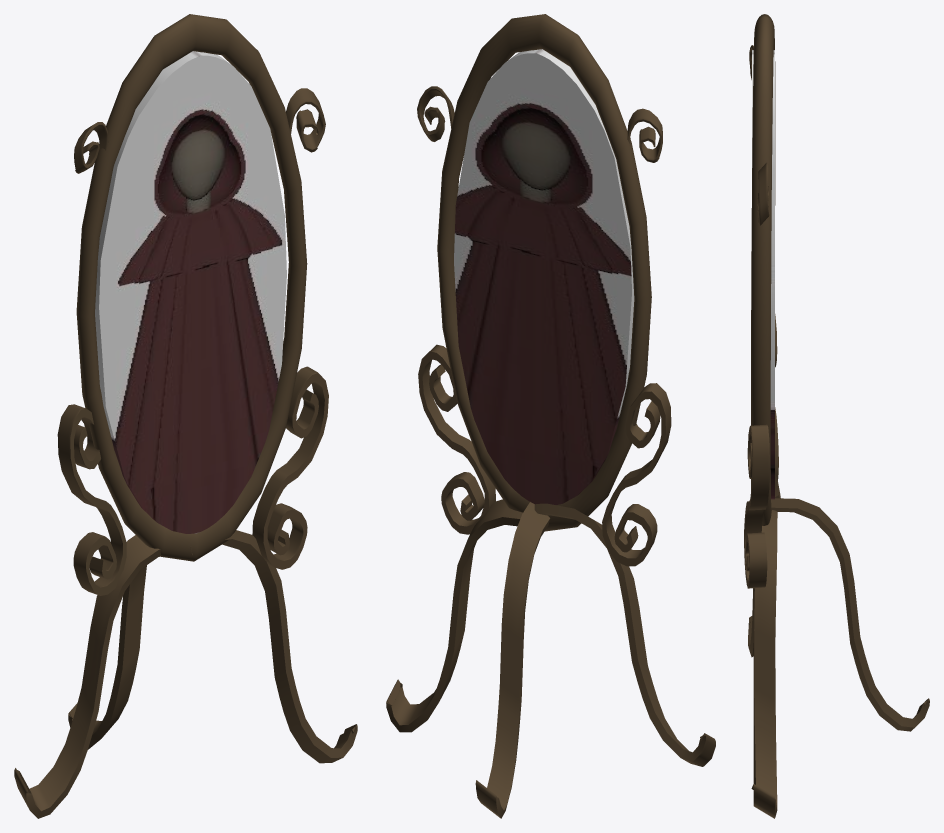
The model's file is alchemist mirror reflection.fbx.
3 views of the same model, side by side, from view 1: azimuth 30°, elevation 25°; view 2: azimuth 150°, elevation 25°; view 3: azimuth 270°, elevation 25° (orthographic). The views are drawn at different scales.
Parts seen in each view (by area): view 1: polySurface6, polySurface10, polySurface2, polySurface4, polySurface5, polySurface9, polySurface1, polySurface3, polySurface8; view 2: polySurface6, polySurface10, polySurface1, polySurface4, polySurface5, polySurface9, polySurface2, polySurface8, polySurface3; view 3: polySurface10, polySurface9, polySurface1, polySurface4, polySurface6, polySurface3, polySurface2.
Part boxes in pixels (x1,y1,x2,y2): polySurface6: (95, 51, 286, 533); polySurface10: (76, 14, 307, 561); polySurface2: (14, 535, 162, 818); polySurface4: (252, 366, 328, 569); polySurface5: (57, 404, 126, 595); polySurface9: (222, 530, 357, 763); polySurface1: (68, 546, 192, 749); polySurface3: (286, 88, 325, 152); polySurface8: (74, 122, 108, 173); polySurface6: (454, 49, 634, 504); polySurface10: (437, 14, 651, 531); polySurface1: (475, 502, 550, 818); polySurface4: (418, 344, 495, 534); polySurface5: (602, 383, 671, 566); polySurface9: (386, 499, 522, 732); polySurface2: (534, 503, 715, 766); polySurface8: (627, 108, 662, 162); polySurface3: (417, 86, 454, 141); polySurface10: (751, 14, 775, 525); polySurface9: (751, 510, 777, 818); polySurface1: (771, 498, 929, 731); polySurface4: (744, 424, 769, 588); polySurface6: (752, 50, 774, 499); polySurface3: (757, 162, 769, 225); polySurface2: (748, 473, 780, 657).
Bounding box in the file's own units: 5.61 × 12.63 × 2.9.
